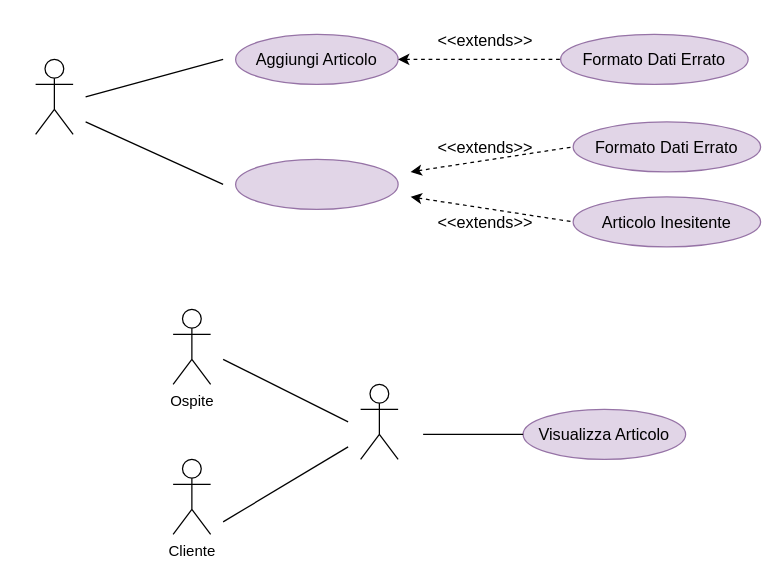
The diagram is 783 pixels wide and 581 high, and some of its shapes have lost their labels. The shapes that lost their labels are listed below. From the top down, each one's centre as x and y in pixels, then its label:
pixel 53 96: Articolista
pixel 316 183: Rimuovi Articolo
pixel 378 421: Utente
